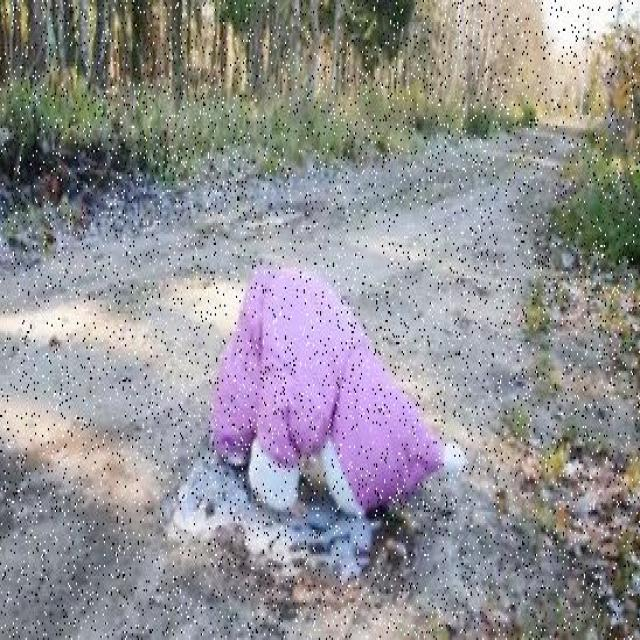fall: (212, 274, 442, 516)
